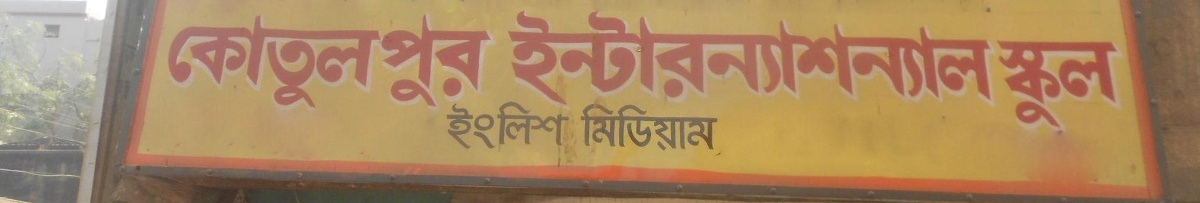text: (177, 11, 192, 109), (193, 11, 208, 109), (209, 11, 224, 109), (225, 11, 240, 109), (241, 11, 256, 109), (257, 11, 272, 109), (273, 11, 288, 109), (289, 11, 304, 109), (305, 11, 320, 109), (321, 11, 336, 109), (337, 11, 352, 109), (353, 11, 368, 109), (369, 11, 384, 109), (385, 11, 400, 109), (401, 11, 416, 109), (417, 11, 432, 109), (433, 11, 448, 109), (449, 11, 464, 109), (465, 11, 480, 109), (513, 10, 528, 107), (529, 10, 544, 107), (545, 10, 560, 107), (561, 10, 576, 107), (577, 10, 592, 107), (593, 10, 608, 107), (609, 10, 624, 107), (625, 10, 640, 107), (641, 10, 656, 107), (657, 10, 672, 107), (673, 10, 688, 107), (689, 10, 704, 107), (705, 10, 720, 107), (721, 10, 736, 107), (737, 10, 752, 107), (753, 10, 768, 107), (769, 10, 784, 107), (785, 10, 800, 107), (801, 10, 816, 107), (817, 10, 832, 107), (833, 10, 848, 107), (849, 10, 864, 107), (865, 10, 880, 107), (881, 10, 896, 107), (897, 10, 912, 107), (913, 10, 928, 107), (929, 10, 944, 107), (945, 10, 960, 107), (961, 10, 976, 107), (977, 10, 992, 107), (1105, 39, 1121, 129), (1009, 39, 1024, 129), (1025, 39, 1040, 129), (1041, 39, 1056, 129), (1057, 39, 1072, 129), (1073, 39, 1088, 129), (1089, 39, 1104, 129), (997, 39, 1008, 129), (166, 11, 176, 109), (481, 11, 491, 109), (502, 10, 512, 107), (593, 103, 608, 153), (609, 103, 624, 153), (625, 103, 640, 153), (641, 103, 656, 153), (657, 103, 672, 153), (673, 103, 688, 153), (689, 103, 704, 153), (705, 103, 720, 153), (449, 101, 464, 149), (465, 101, 480, 149), (481, 101, 496, 149), (497, 101, 512, 149), (513, 101, 528, 149), (529, 101, 544, 149), (545, 101, 560, 149), (578, 103, 592, 153), (561, 101, 572, 149), (443, 101, 448, 149), (993, 10, 995, 107)
